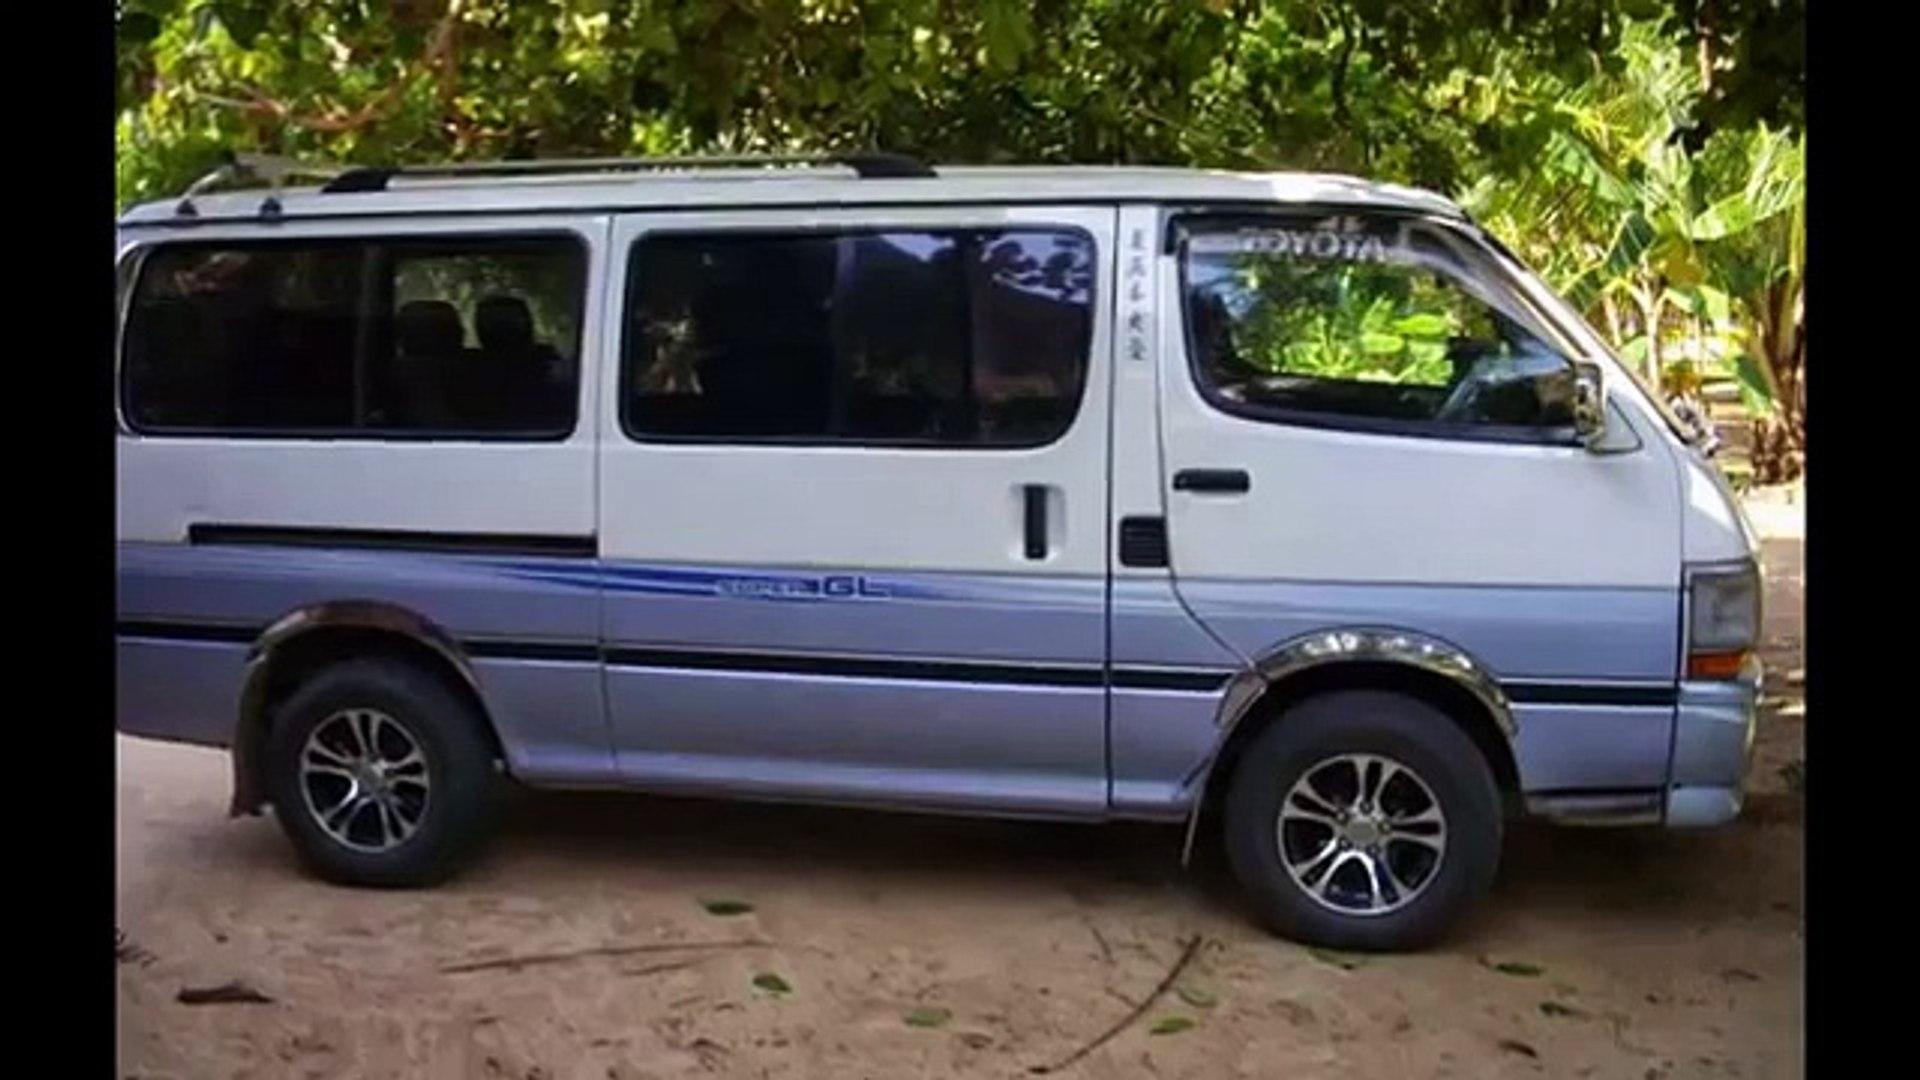van: (124, 167, 1767, 955)
